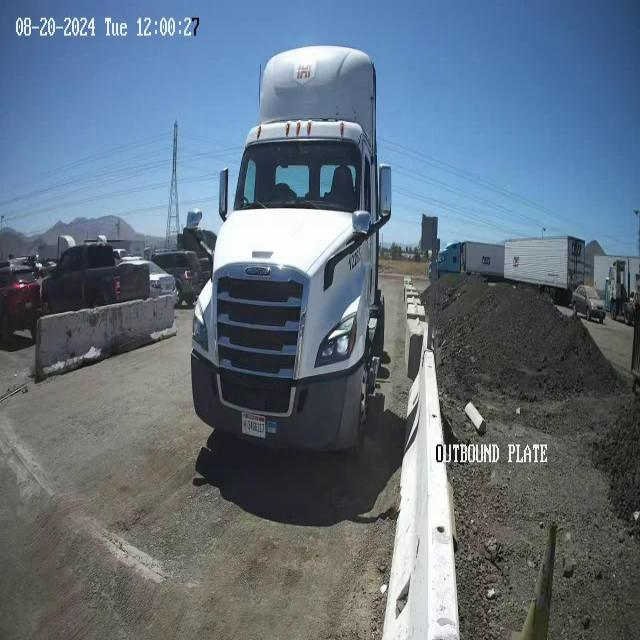BOBTAIL: (190, 44, 392, 458)
